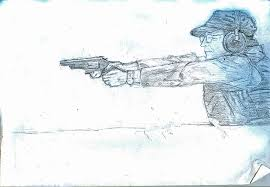gun: (58, 52, 122, 84)
